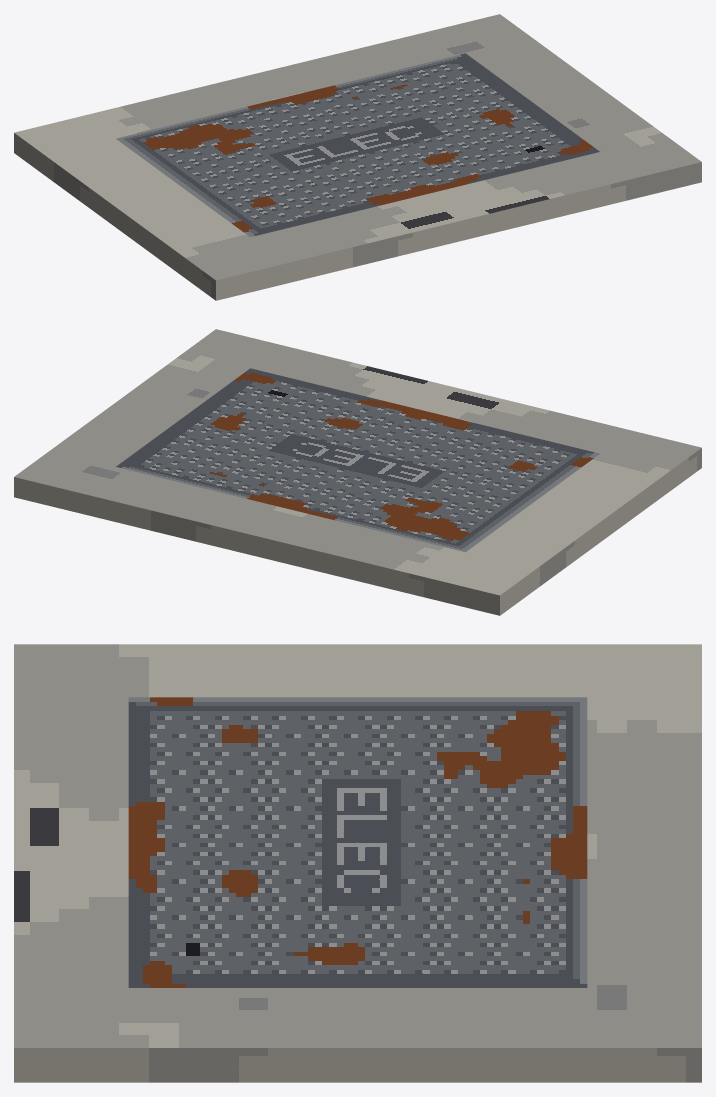
The model's file is UT_WaterMeter.obj.
The picture shows the model from 3 angles, top to bottom: view 1: azimuth 30°, elevation 25°; view 2: azimuth 150°, elevation 25°; view 3: azimuth 270°, elevation 25°; orthographic projection. The views are drawn at different scales.
Visible parts, largest first — view 1: UT_WaterMeter_Mesh_M_Road_CurbConcrete, UT_WaterMeter_Mesh_M_Town_UtilityCover; view 2: UT_WaterMeter_Mesh_M_Road_CurbConcrete, UT_WaterMeter_Mesh_M_Town_UtilityCover; view 3: UT_WaterMeter_Mesh_M_Road_CurbConcrete, UT_WaterMeter_Mesh_M_Town_UtilityCover.
Boxes of the visible parts, x1,y1,x2,y2 form: UT_WaterMeter_Mesh_M_Road_CurbConcrete: (14, 14, 701, 300); UT_WaterMeter_Mesh_M_Town_UtilityCover: (116, 53, 599, 236); UT_WaterMeter_Mesh_M_Road_CurbConcrete: (14, 329, 701, 615); UT_WaterMeter_Mesh_M_Town_UtilityCover: (116, 368, 599, 551); UT_WaterMeter_Mesh_M_Road_CurbConcrete: (14, 644, 701, 1082); UT_WaterMeter_Mesh_M_Town_UtilityCover: (128, 697, 587, 987).
Bounding box in the file's own units: 0.5 × 0.022 × 0.36.
Materials: 2 (2 with a texture image).
